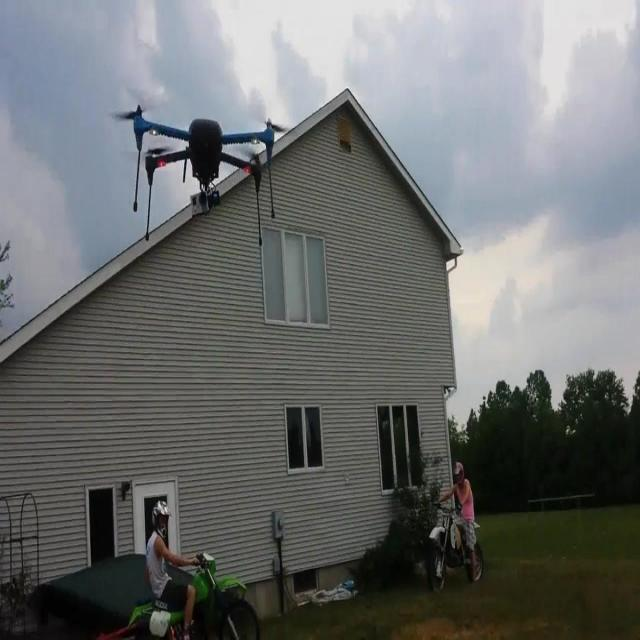UAV: (112, 104, 288, 247)
